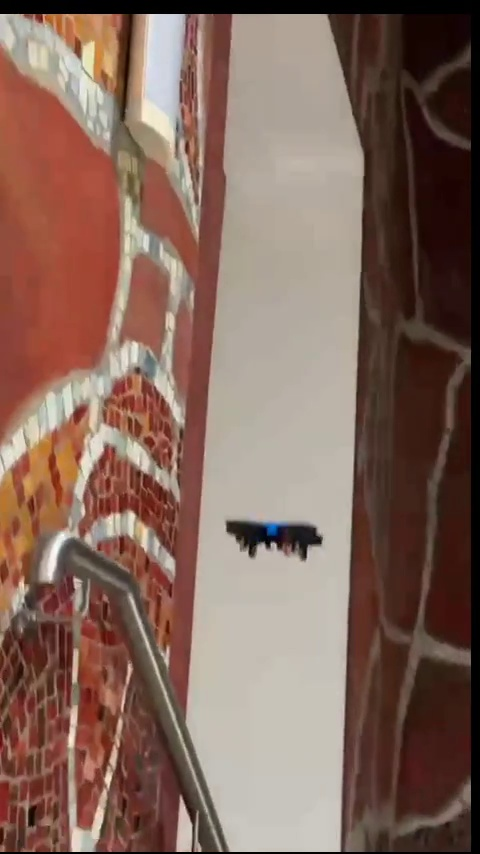drone: (225, 515, 326, 565)
